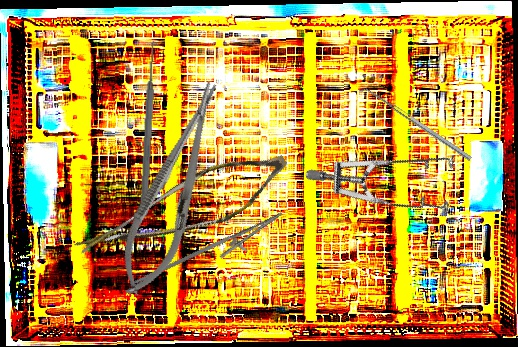Micro Scissor: (70, 120, 296, 302)
Needle Holder: (105, 73, 241, 306), (133, 195, 290, 311)
Pusher: (138, 40, 159, 217)
Spatula Surgical: (357, 83, 473, 166)
Speculum: (302, 89, 479, 260)
